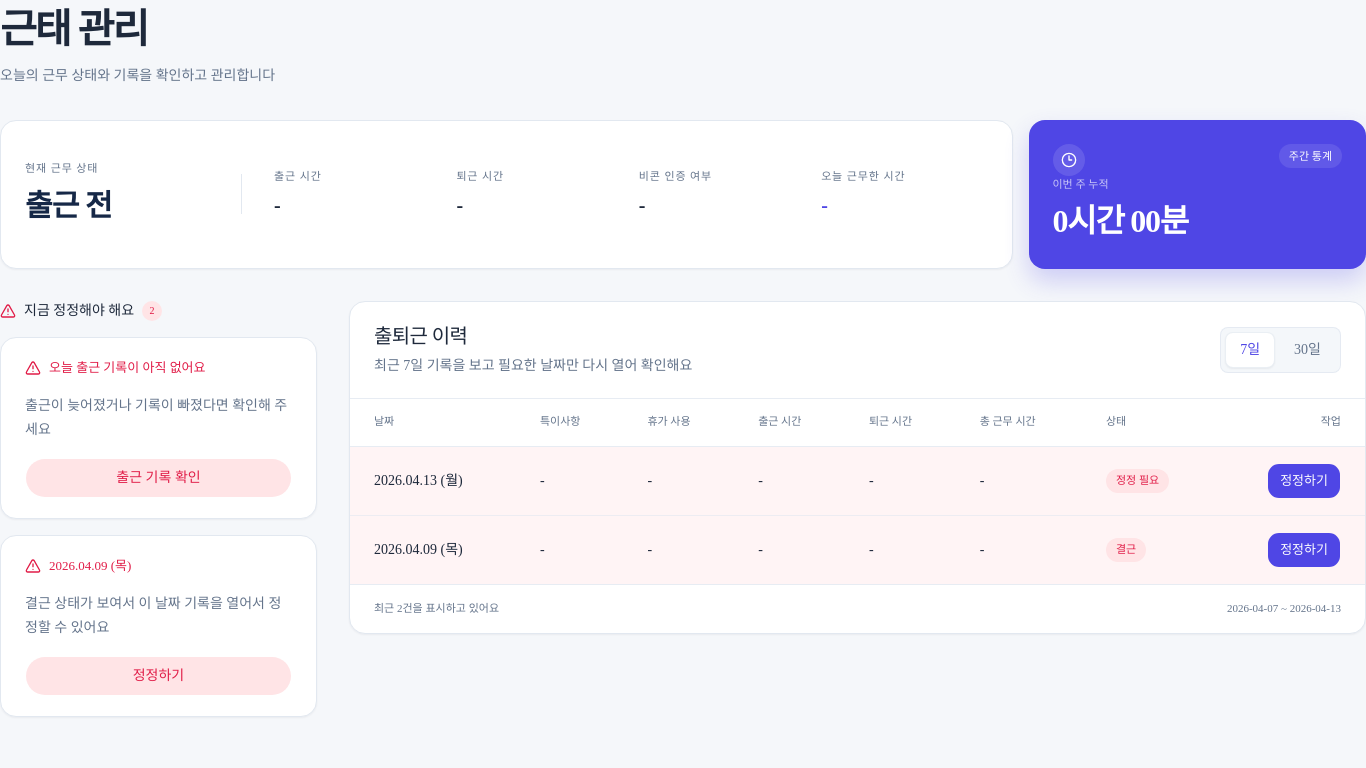
Test: AttendancePageClient › submits a same-day correction and replaces stale create surfaces with pending status
Step 1. Click the button "출근 기록 확인" → (158,478), box [25,458,292,498]
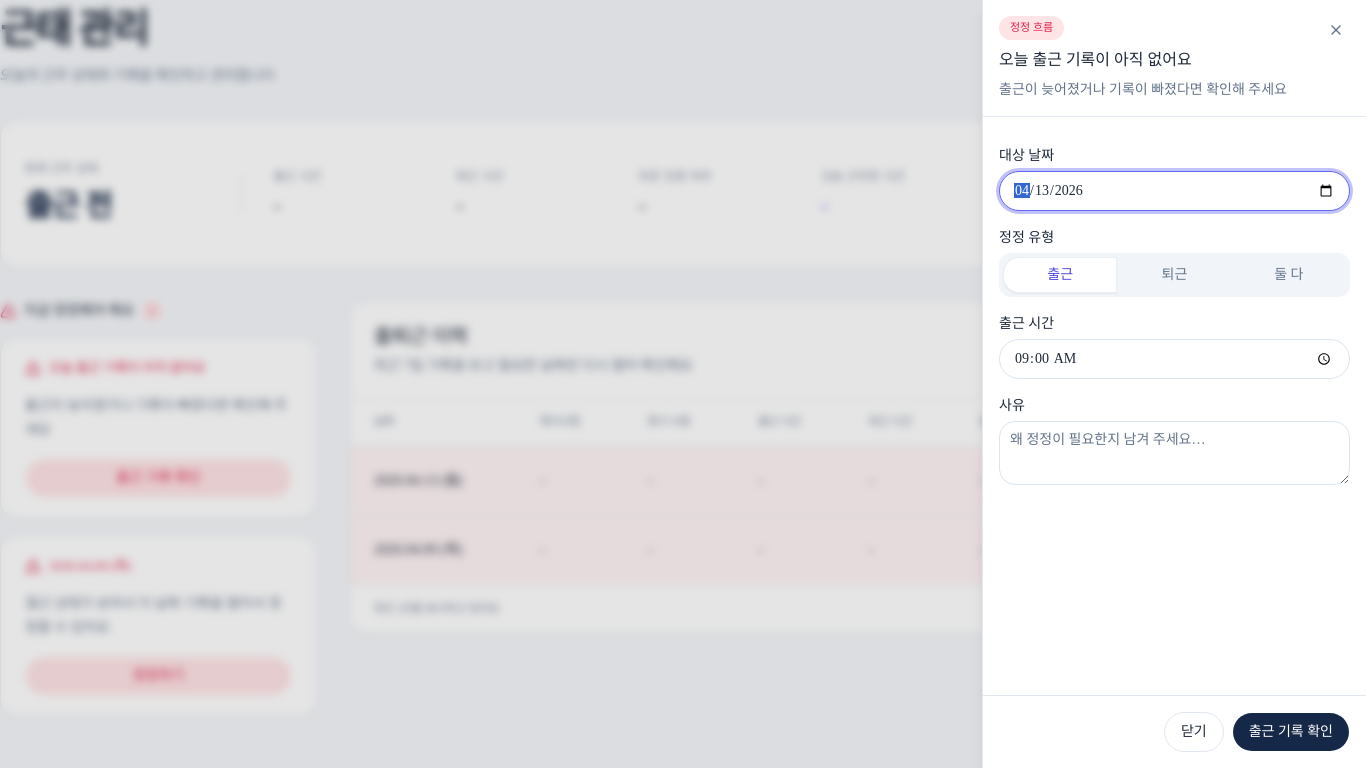
Step 2. Type "비콘 재시도 실패로 출근 시간을 정정 요청했어요." into the text box labelled "사유" → (1174,453), box [999,421,1350,485]
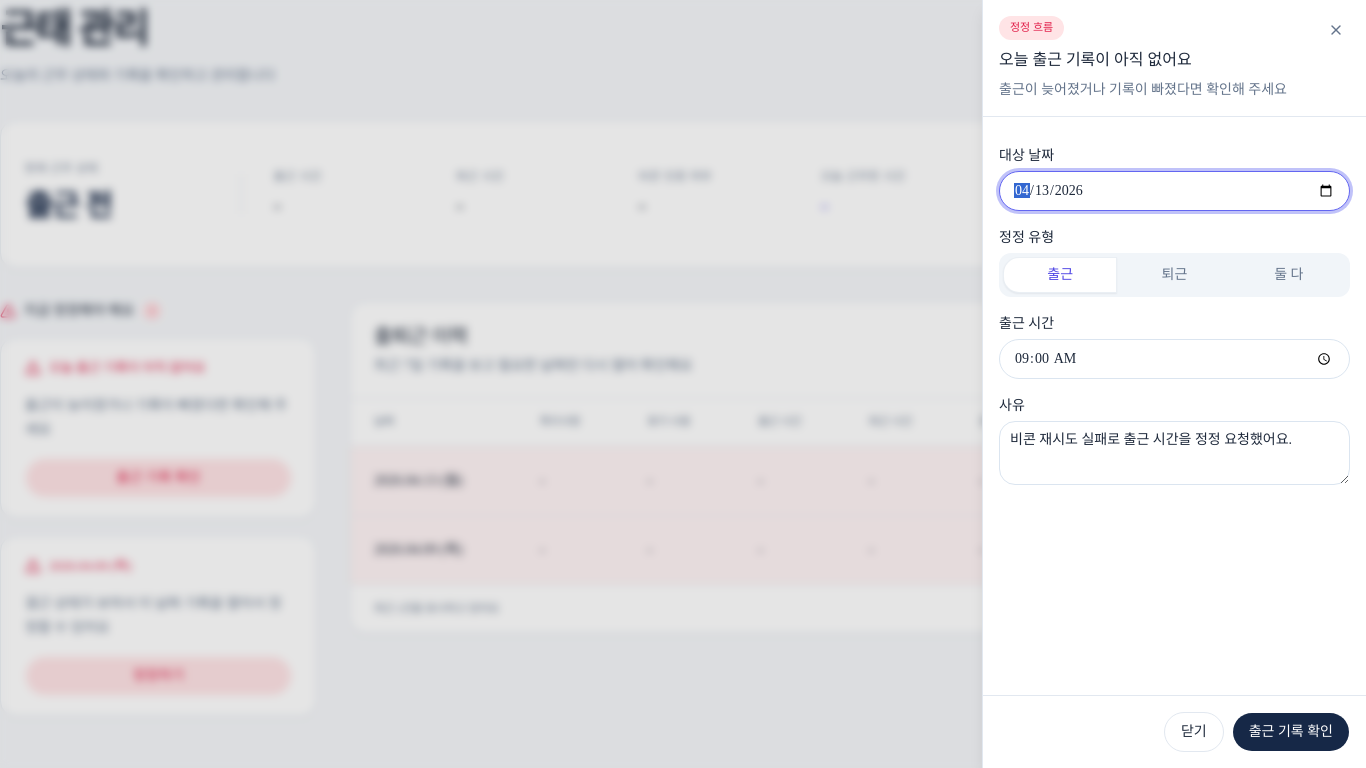
Step 3. Click the button "출근 기록 확인" → (1291,732), box [1232,712,1350,752]
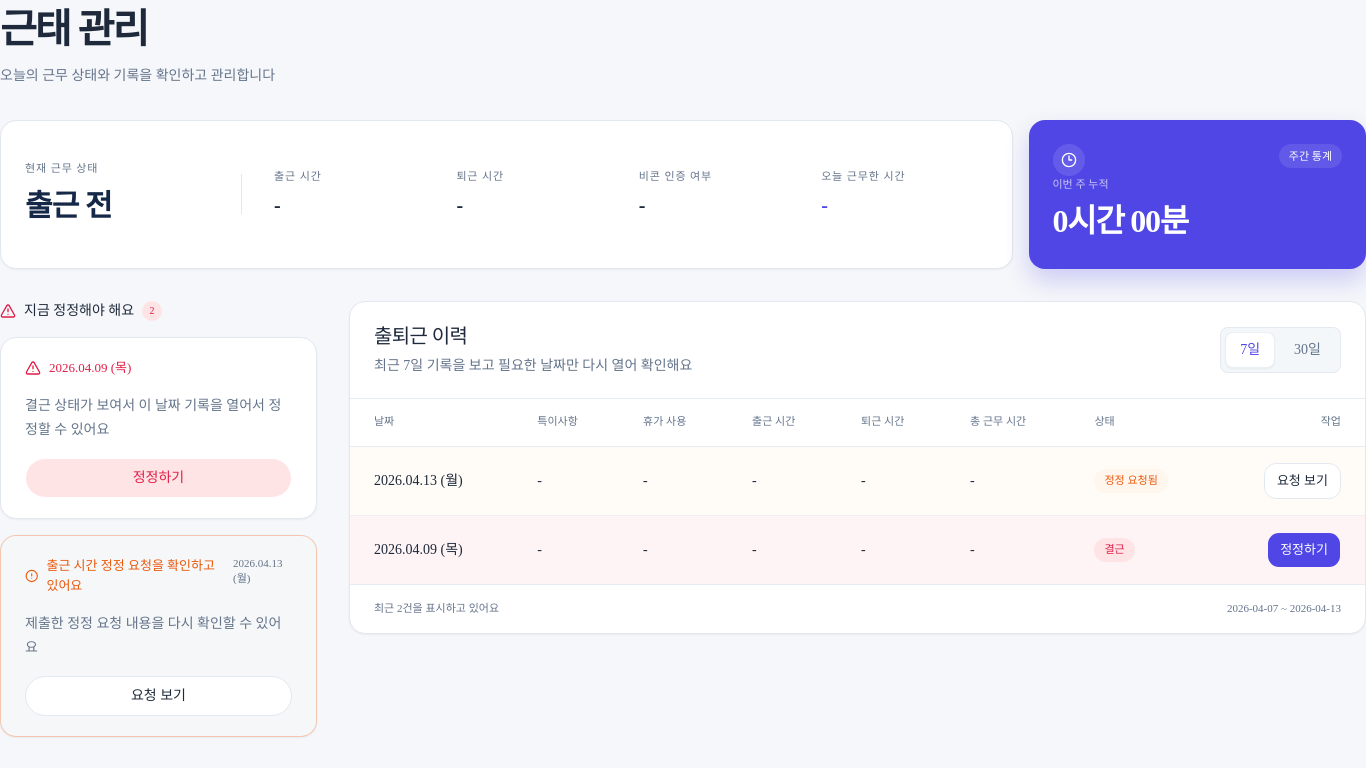
Expected: the text "출근 시간 정정 요청을 확인하고 있어요" is shown, [46,556,221,596]
Expected: the text "정정 요청됨" is shown, [1094,469,1168,493]
Expected: the button "출근 기록 확인" is gone
